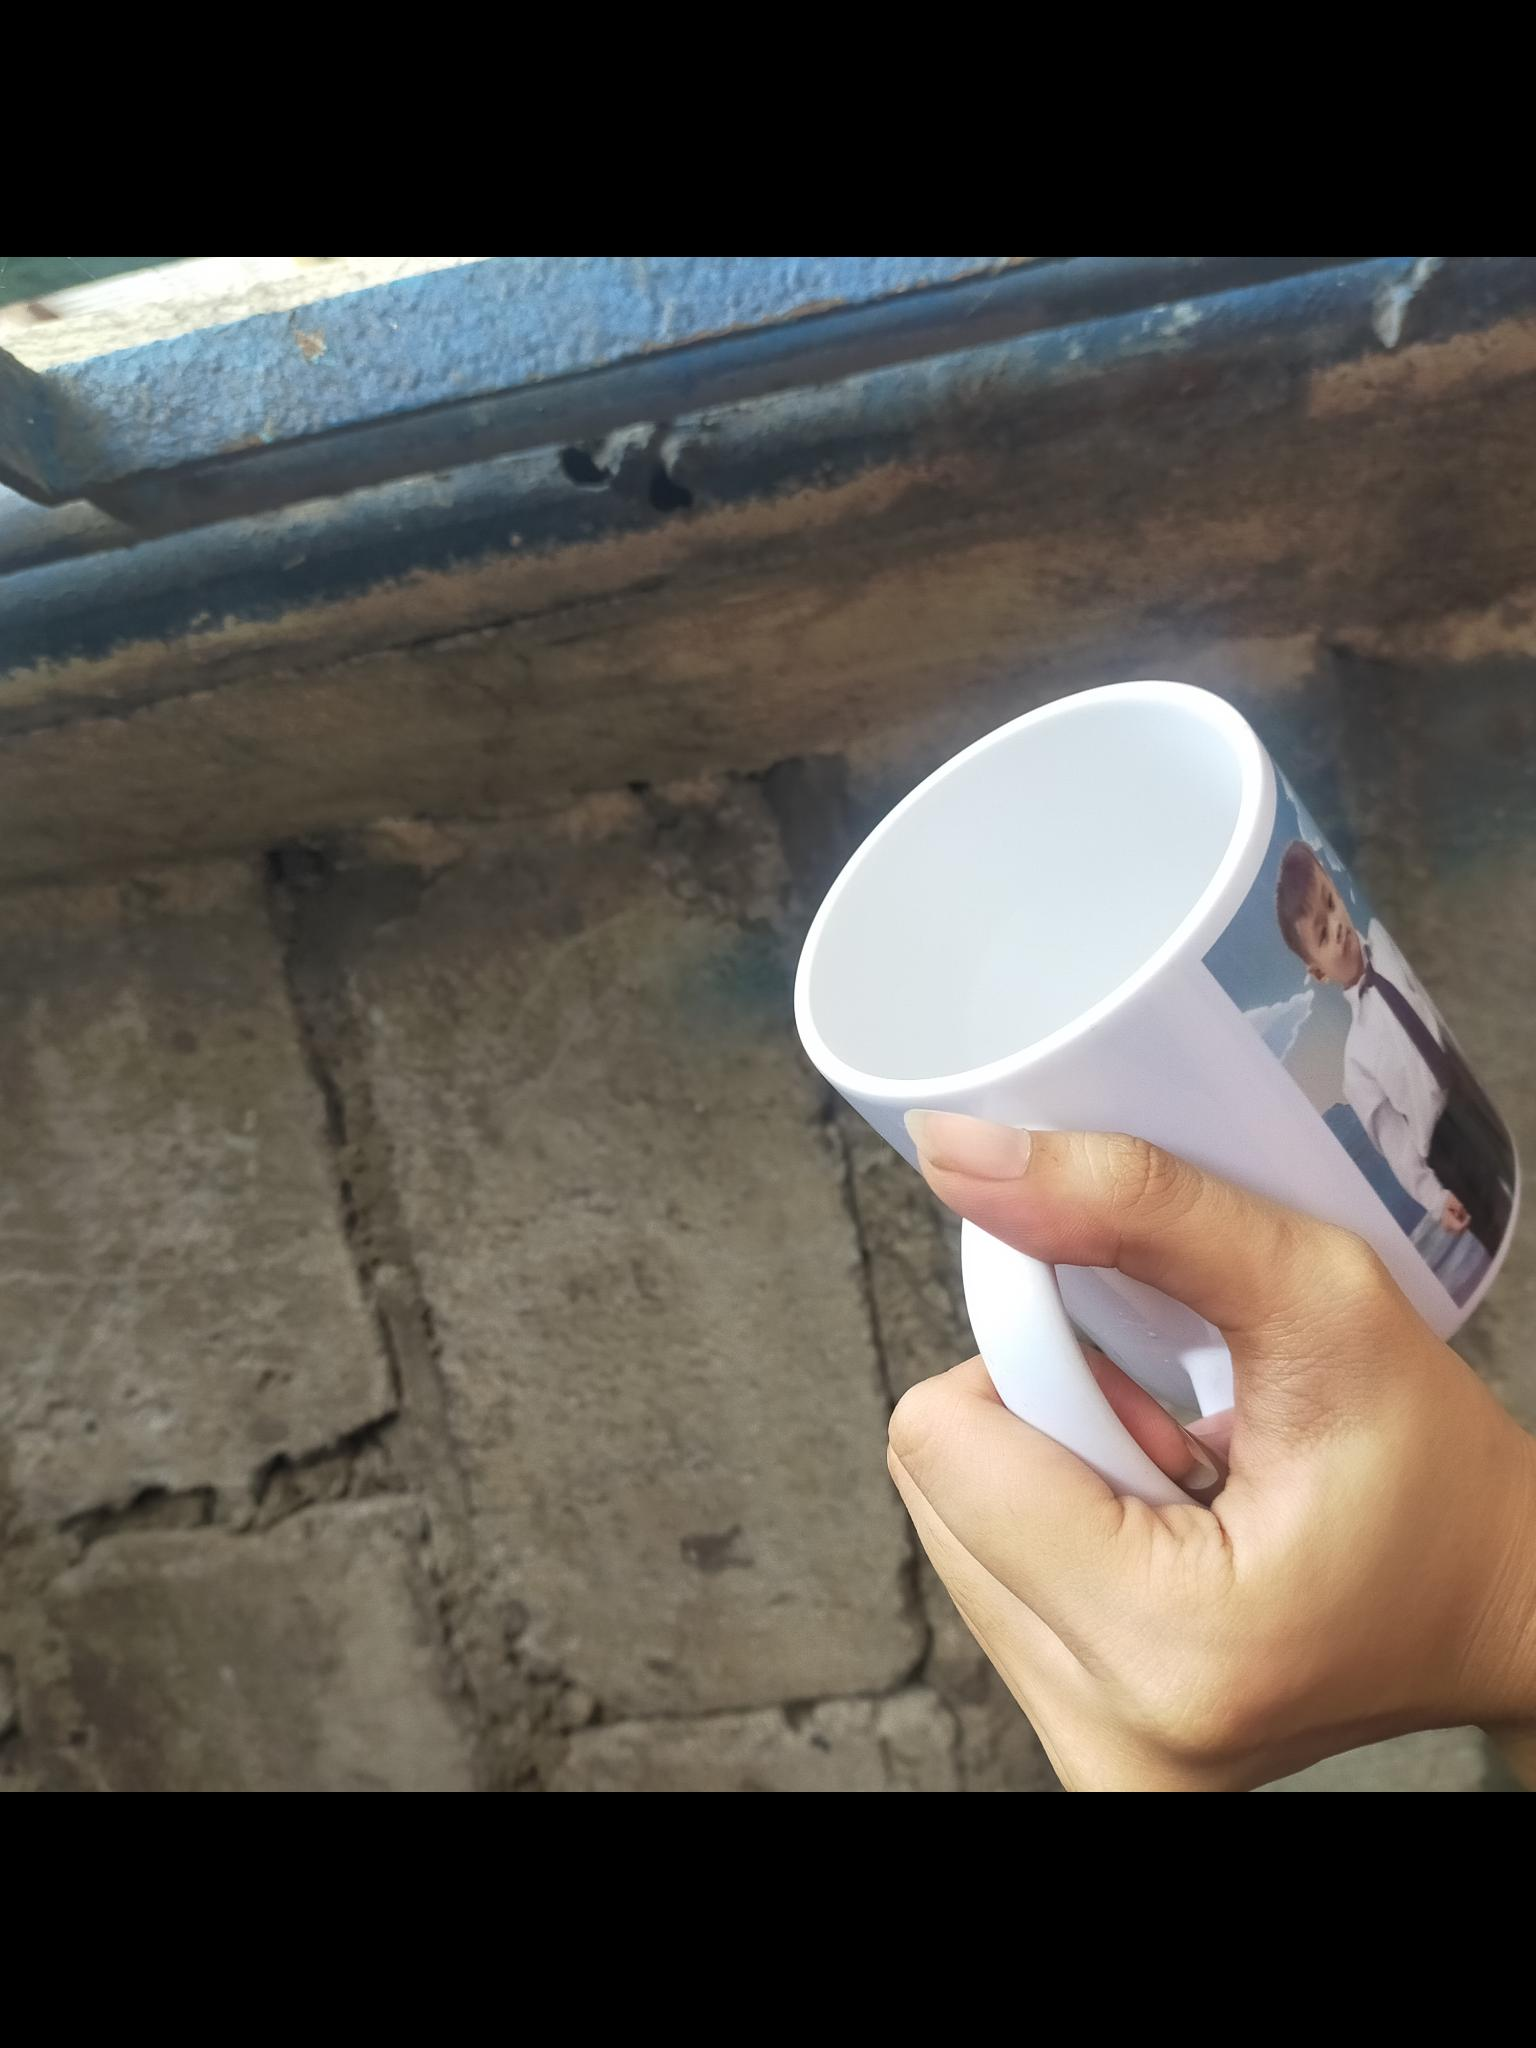Coffee Mug: (794, 674, 1520, 1511)
